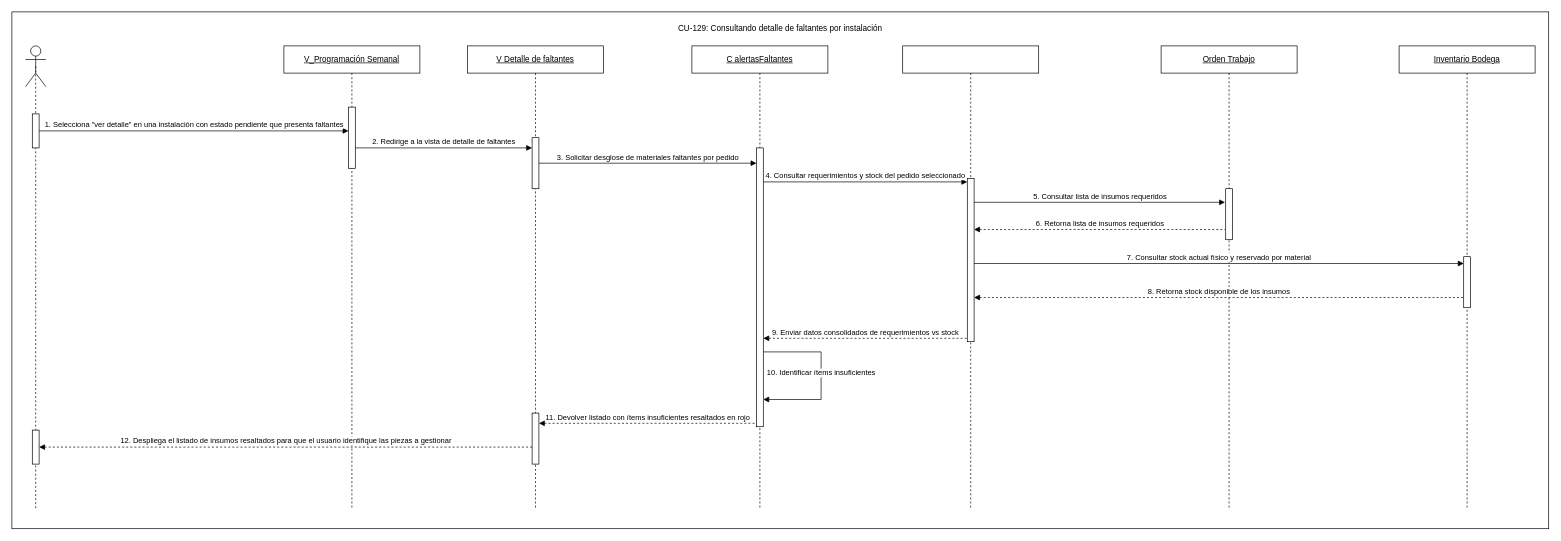
Some shapes in this 1561 by 541 pixel diagram are drawn without their labels. Here are the shapes that lost their labels. From the top down, the box of each, then its label:
(25, 45, 46, 87): JOP
(902, 45, 1039, 508): C Postgre
